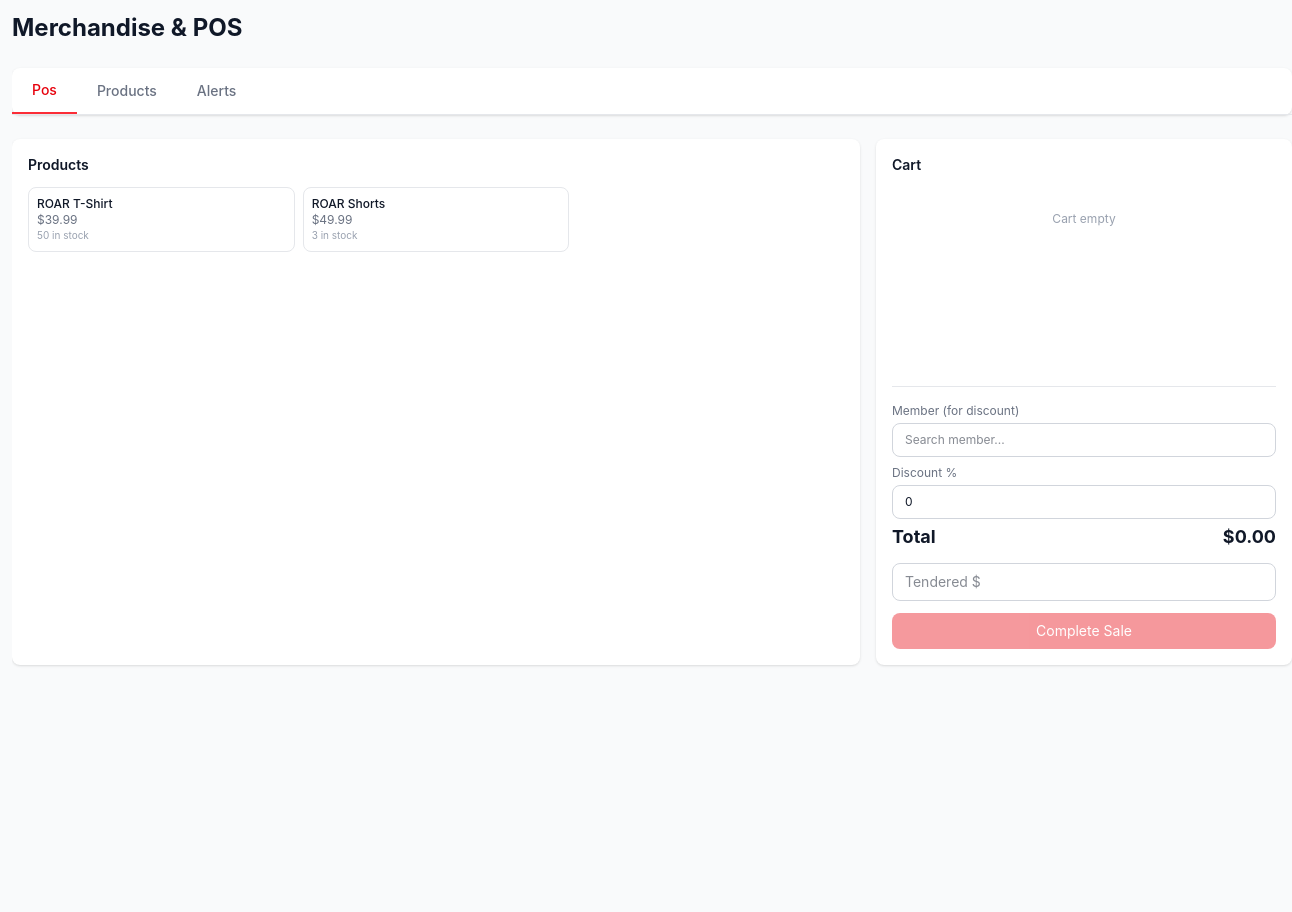
Test: POS Page › adds product to cart on click
This screenshot has width=1292, height=912.
Click the text "ROAR T-Shirt" at (75, 204), box [37,196,112,211]
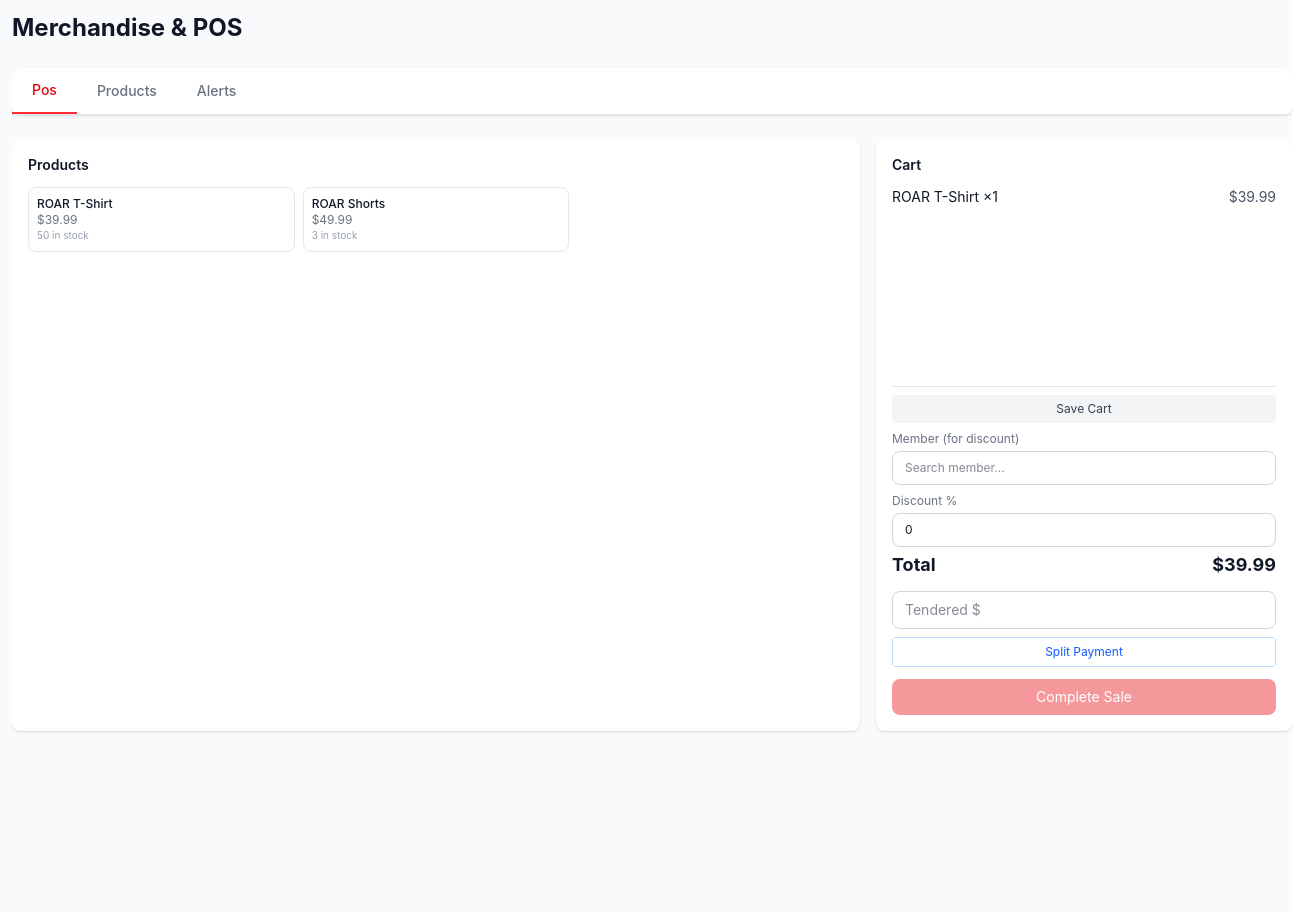
Now the text "ROAR T-Shirt ×1" is shown, box [892,187,998,207]
